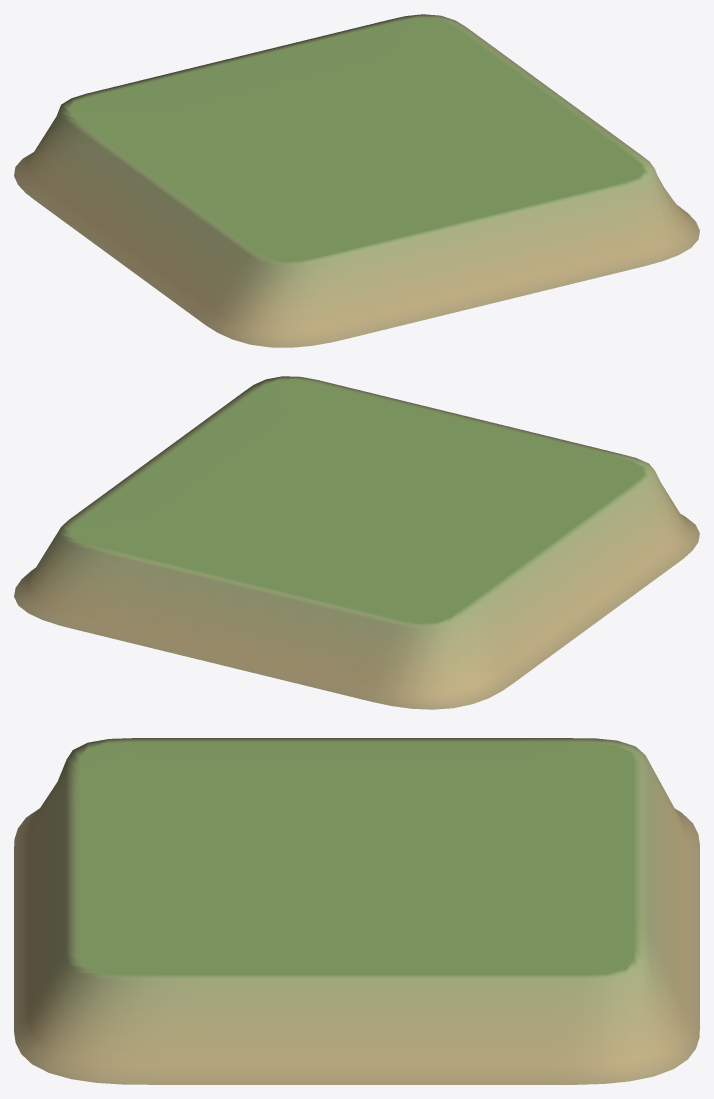
Rendered from island.glb.
3 renders of one model, top to bottom at view 1: azimuth 30°, elevation 25°; view 2: azimuth 150°, elevation 25°; view 3: azimuth 270°, elevation 25°, orthographic. The views are drawn at different scales.
Size of the model in its own units: 11 by 1.39 by 10.9.
